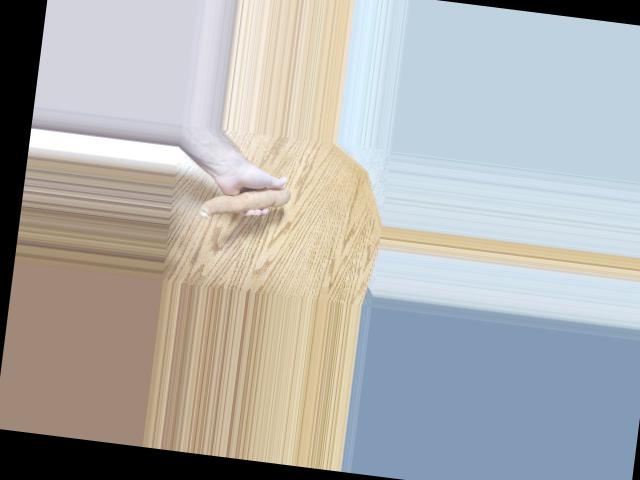sweet_potato: (200, 178, 293, 213)
